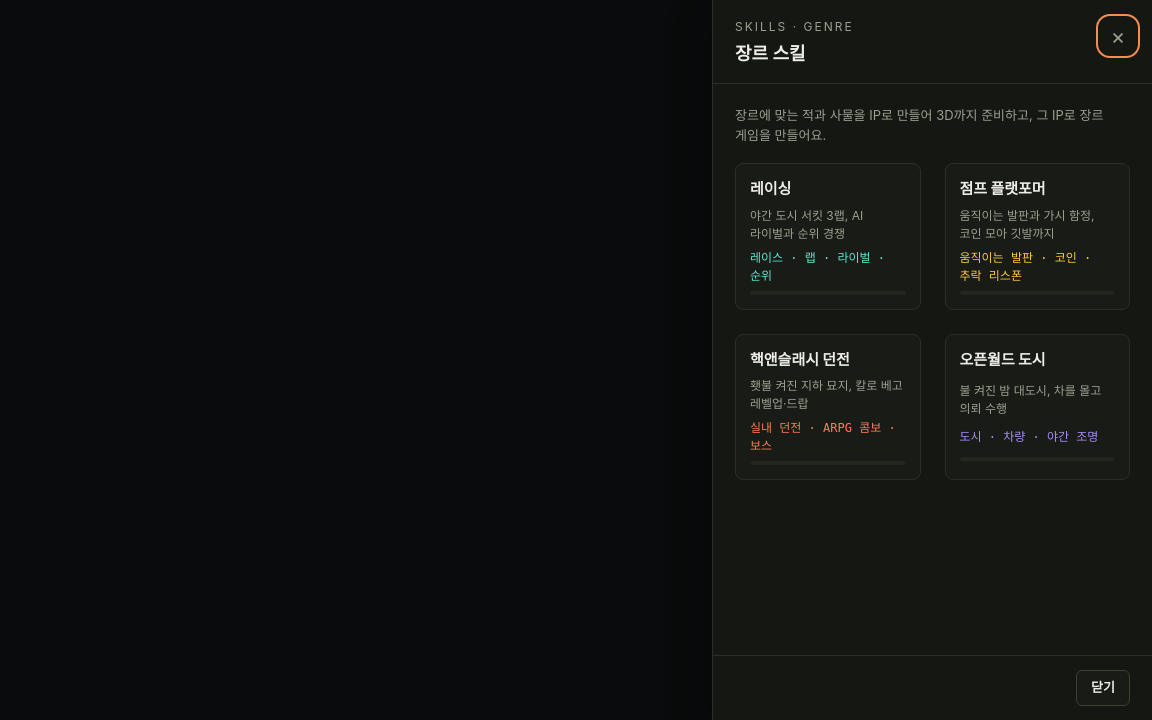
it: R20-38 the steps say what is needed and why a button is off › step 0 says the hero needs 3D first, with the time, and starts it
Click the button "레이싱 야간 도시 서킷 3랩, AI 라이벌과 순위 경쟁 레이스 · 랩 · 라이벌 · 순위".
click(828, 236)  # box [735,163,920,310]
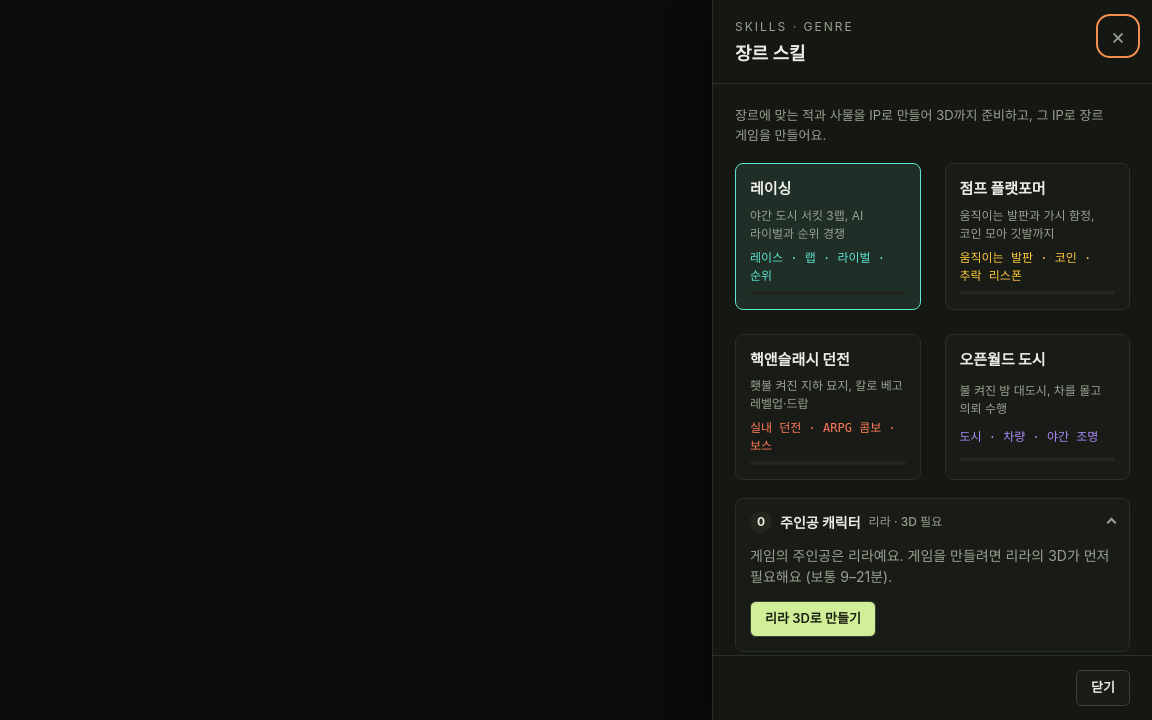
Expected: the text "리라 · 3D 필요" is shown, [869,513,942,531]
Expected: the text "게임의 주인공은 리라예요. 게임을 만들려면 리라의 3D가 먼저 필요해요 (보통 9–21분)." is shown, [750,545,1115,587]
Click the button "리라 3D로 만들기".
click(813, 619)  # box [750,601,876,637]
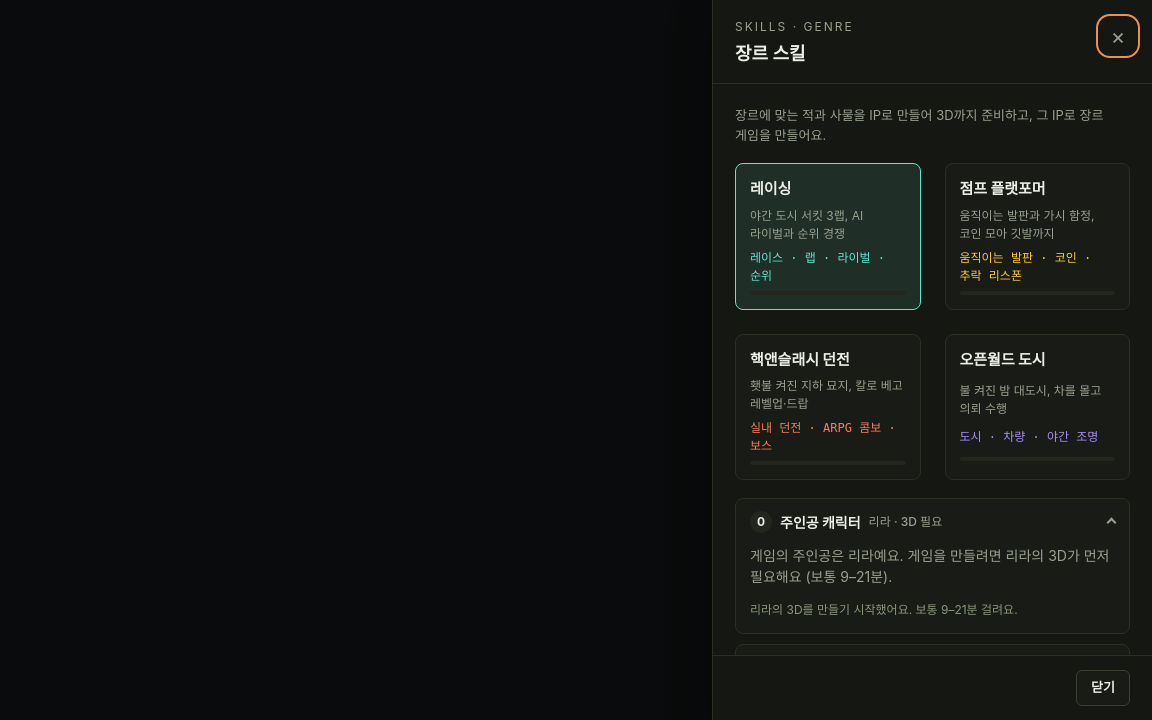
Expected: the message "리라의 3D를 만들기 시작했어요. 보통 9–21분 걸려요." is shown, [750,602,1018,617]
